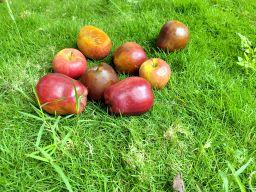apple: (27, 68, 99, 122), (98, 74, 161, 122), (68, 17, 119, 62), (79, 56, 124, 101), (148, 15, 196, 55), (106, 38, 155, 75), (138, 51, 176, 92), (50, 44, 89, 82)
